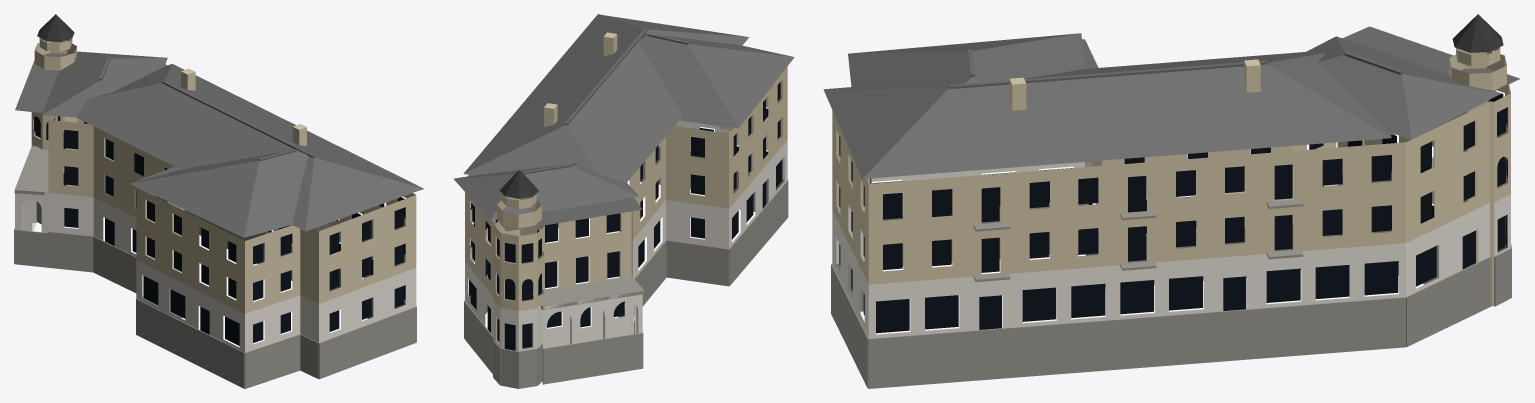
File: bmorskaya4.lod.glb
3 views of the same model, side by side, from view 1: azimuth 30°, elevation 25°; view 2: azimuth 150°, elevation 25°; view 3: azimuth 270°, elevation 25° (orthographic). The views are drawn at different scales.
Parts seen in each view (by area): view 1: bmorskaya4_roof, bmorskaya4_wall, bmorskaya4_stone, bmorskaya4_wall2, bmorskaya4_glass, bmorskaya4_wall3; view 2: bmorskaya4_roof, bmorskaya4_wall, bmorskaya4_stone, bmorskaya4_wall2, bmorskaya4_glass, bmorskaya4_wall3; view 3: bmorskaya4_roof, bmorskaya4_wall, bmorskaya4_stone, bmorskaya4_glass, bmorskaya4_wall2, bmorskaya4_wall3.
Boxes of the visible parts, box(x1,y1,x2,y2) form: bmorskaya4_roof: box(15, 51, 423, 237); bmorskaya4_wall: box(31, 38, 416, 313); bmorskaya4_stone: box(14, 146, 416, 388); bmorskaya4_wall2: box(15, 135, 416, 352); bmorskaya4_glass: box(34, 116, 405, 345); bmorskaya4_wall3: box(37, 14, 74, 41); bmorskaya4_roof: box(453, 14, 794, 231); bmorskaya4_wall: box(465, 32, 787, 349); bmorskaya4_stone: box(464, 147, 788, 388); bmorskaya4_wall2: box(465, 120, 787, 351); bmorskaya4_glass: box(469, 82, 782, 350); bmorskaya4_wall3: box(499, 170, 538, 198); bmorskaya4_roof: box(823, 26, 1520, 179); bmorskaya4_wall: box(832, 47, 1510, 306); bmorskaya4_stone: box(831, 140, 1511, 388); bmorskaya4_glass: box(839, 93, 1507, 333); bmorskaya4_wall2: box(832, 158, 1510, 338); bmorskaya4_wall3: box(1452, 14, 1503, 52).
Bounding box in the file's own units: 22.93 × 19.4 × 43.86.
